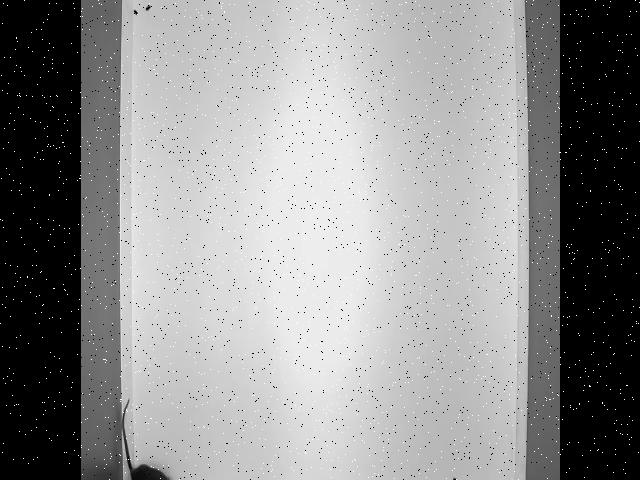Tikus: (116, 405, 185, 480)
